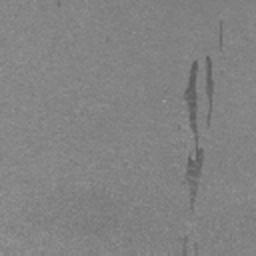Red iron sheet: (182, 59, 204, 209), (205, 55, 216, 127), (182, 233, 189, 256), (219, 20, 223, 50), (54, 0, 67, 9), (193, 242, 200, 256)
